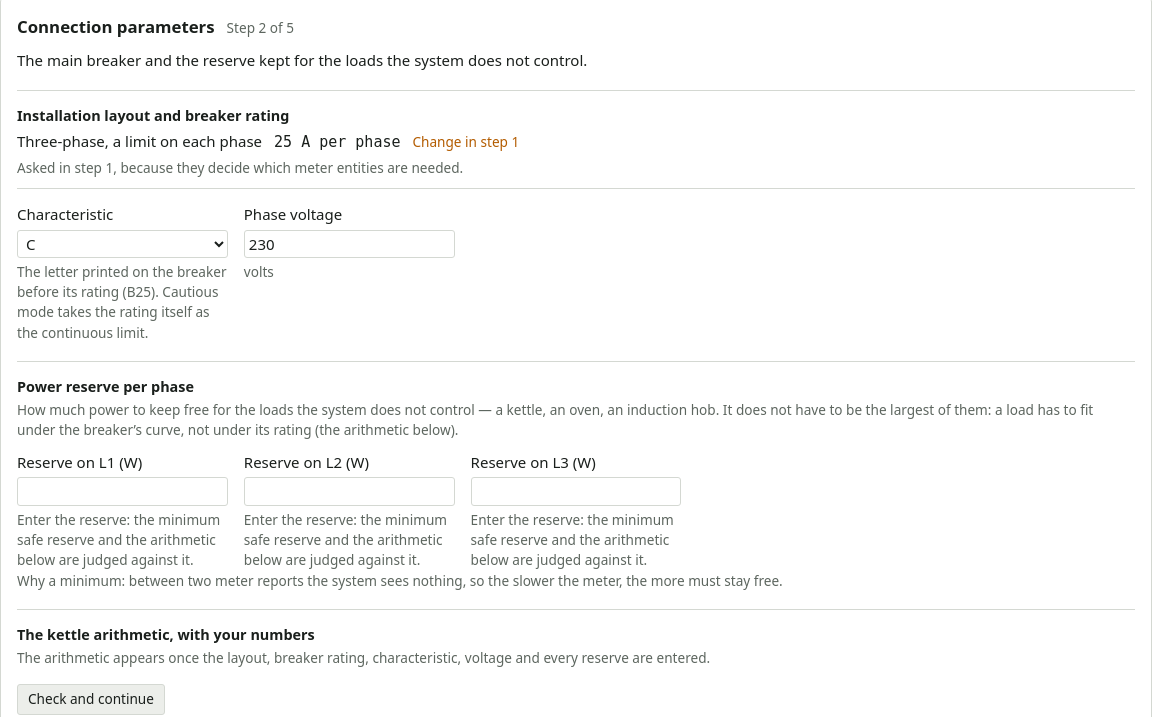
Test: kettle arithmetic › an empty reserve hides the arithmetic and is refused at its field
What coordinates should you click on to do the following:
click the button "Check and continue"
I would click on:
 (91, 699)
Its box is [17,684,165,715].
(page scrolled)
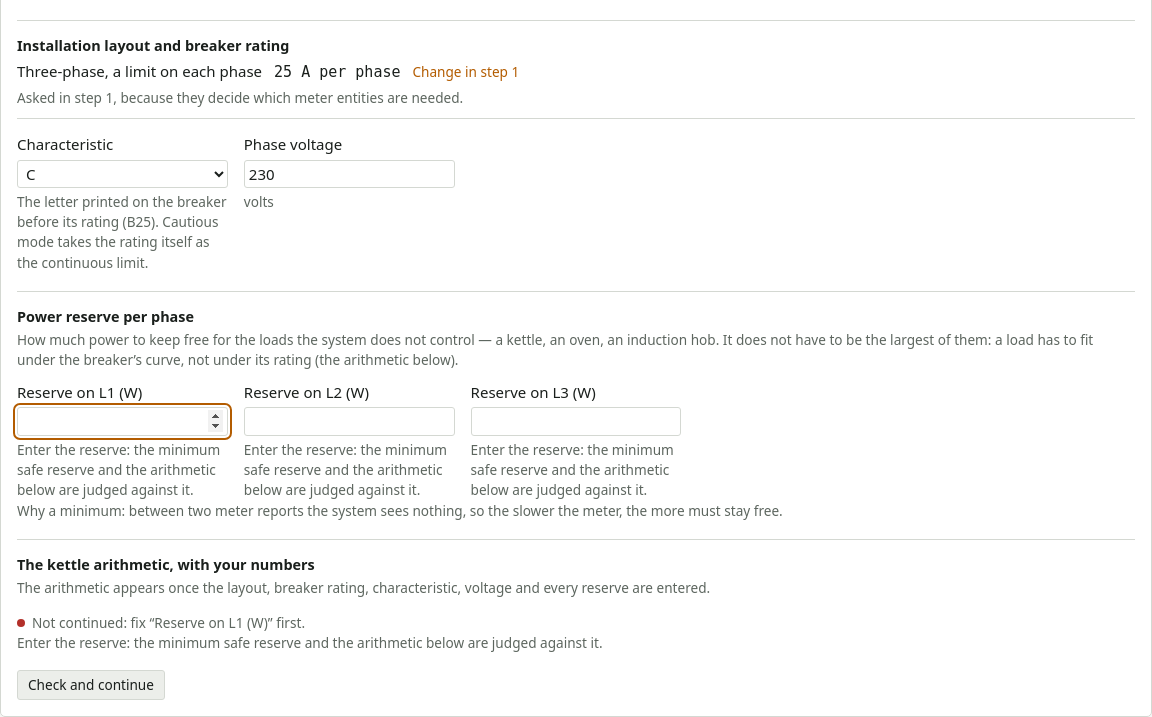
Expected: the message shows "Not continued: fix “Reserve on L1 (W)” first.", [32,613,305,632]
